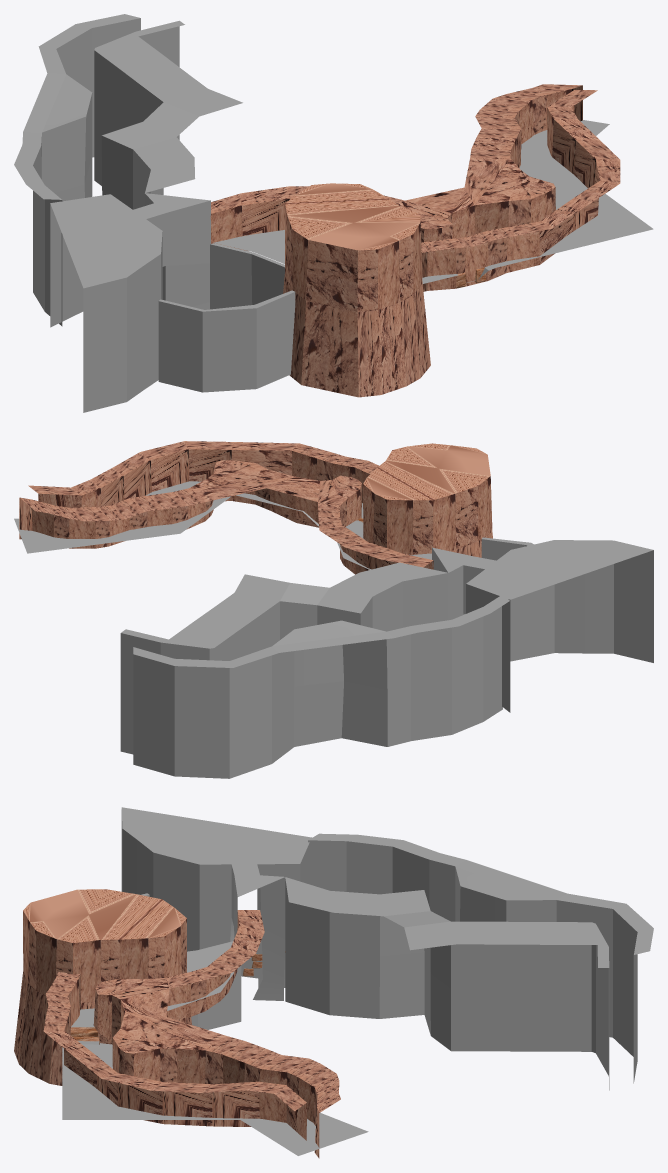
File: env_model_level0_tutorial_02.fbx
3 views of the same model, one above another, from view 1: azimuth 30°, elevation 25°; view 2: azimuth 150°, elevation 25°; view 3: azimuth 270°, elevation 25° (orthographic). The views are drawn at different scales.
Visible parts, largest first — view 1: pCube54, pCube143, polySurface2, polySurface1, polySurface3, pCube146, pCube144, pCube147, pCube145, pCube149; view 2: polySurface3, pCube143, polySurface2, polySurface1, pCube54, pCube146, pCube147, pCube144; view 3: polySurface2, polySurface3, pCube143, polySurface1, pCube54, pCube146, pCube147, pCube145, pCube149.
Part boxes in pixels (<box>): pCube54: <box>283,183,430,397</box>; pCube143: <box>50,193,210,412</box>; polySurface2: <box>94,20,242,209</box>; polySurface1: <box>210,84,582,251</box>; polySurface3: <box>14,14,140,326</box>; pCube146: <box>421,90,620,291</box>; pCube144: <box>158,290,295,392</box>; pCube147: <box>467,120,653,282</box>; pCube145: <box>210,243,284,309</box>; pCube149: <box>214,230,284,263</box>; polySurface3: <box>133,594,509,778</box>; pCube143: <box>432,540,653,712</box>; polySurface2: <box>120,562,448,754</box>; polySurface1: <box>19,460,433,574</box>; pCube54: <box>363,443,492,557</box>; pCube146: <box>28,441,378,507</box>; pCube147: <box>14,481,318,553</box>; pCube144: <box>481,537,533,560</box>; polySurface2: <box>285,877,609,1090</box>; polySurface3: <box>308,833,653,1083</box>; pCube143: <box>121,807,311,1000</box>; polySurface1: <box>93,910,340,1158</box>; pCube54: <box>14,889,191,1085</box>; pCube146: <box>43,972,306,1140</box>; pCube147: <box>62,1041,368,1155</box>; pCube145: <box>187,941,241,1029</box>; pCube149: <box>167,942,233,1010</box>.
Size of the model in its own units: 20115 by 4440 by 18230.
